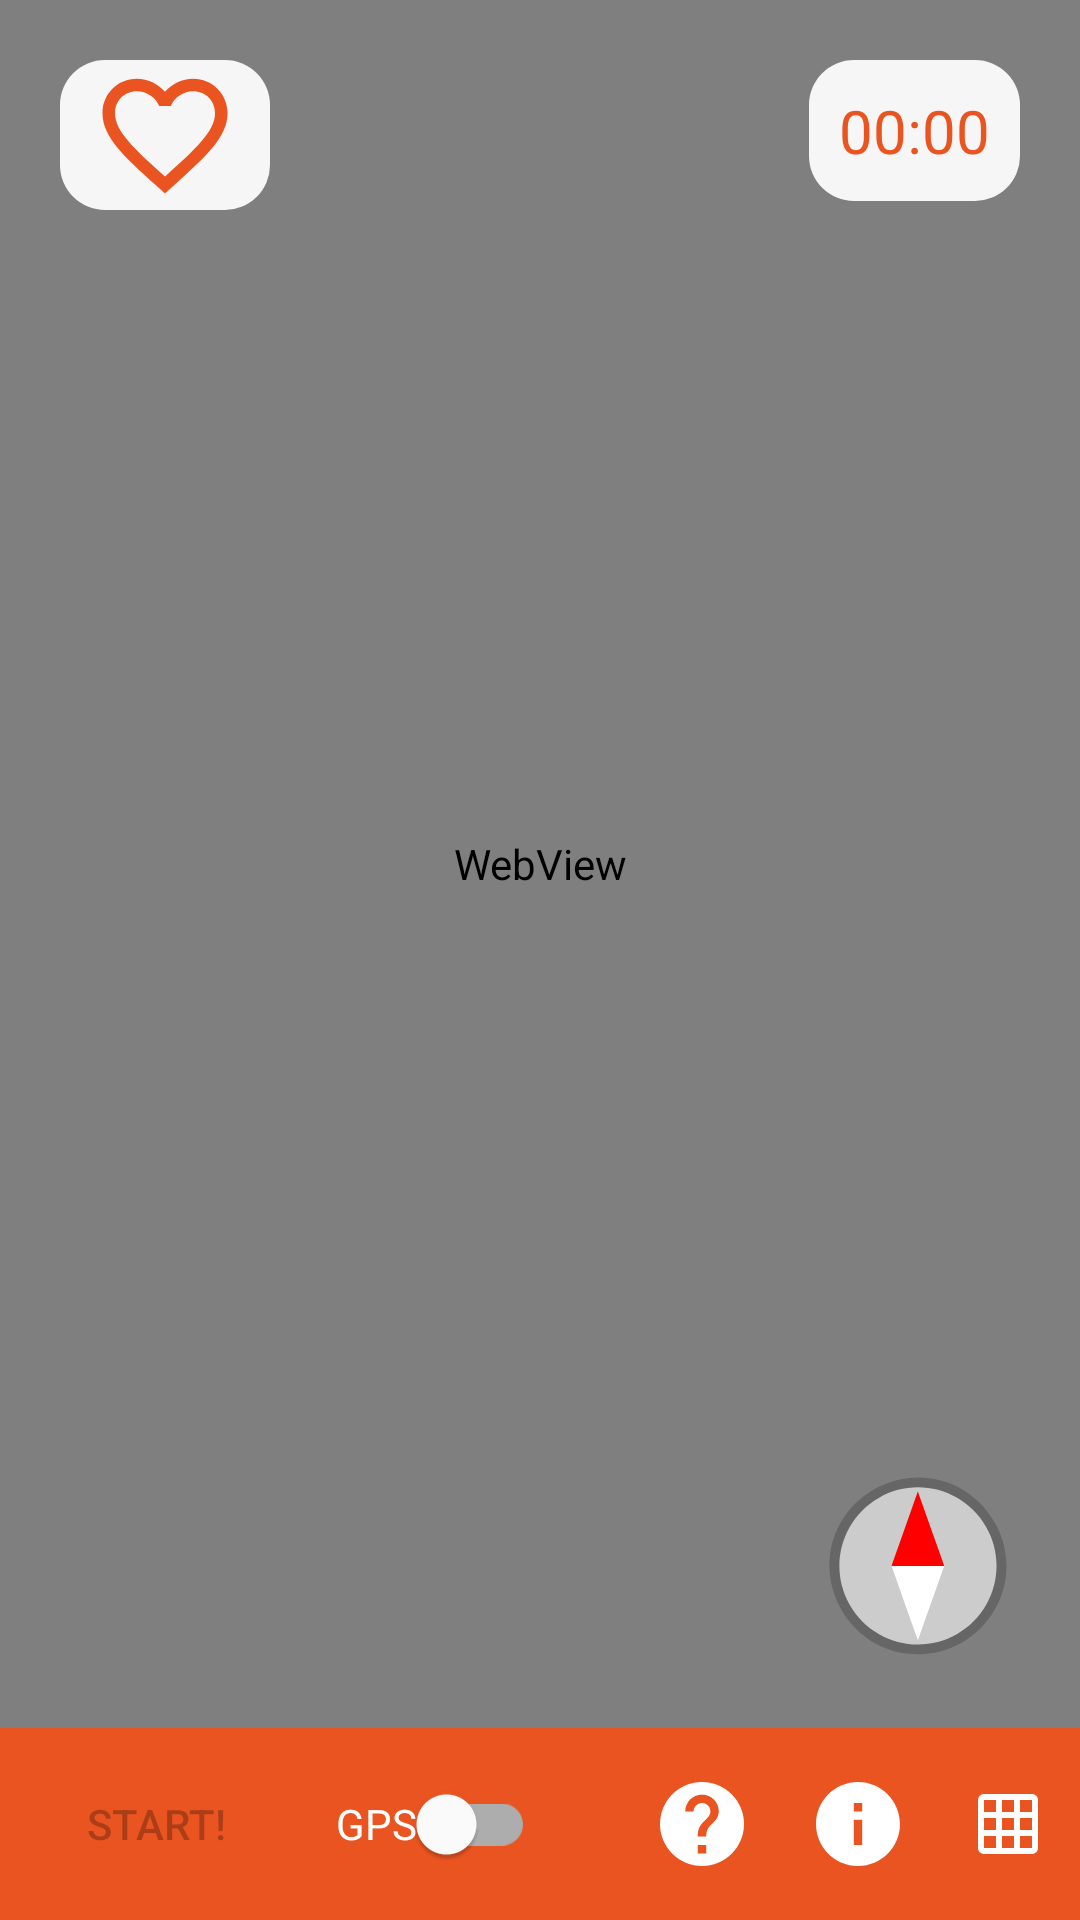

Locate icon controls on the screen. Image size 1080x1920, boxes as bbox=[x1, y1, x2, y2].
heart: bbox=[102, 78, 228, 194]
help: bbox=[660, 1782, 744, 1866]
info: bbox=[816, 1782, 900, 1866]
magnetic compass: bbox=[830, 1478, 1006, 1654]
